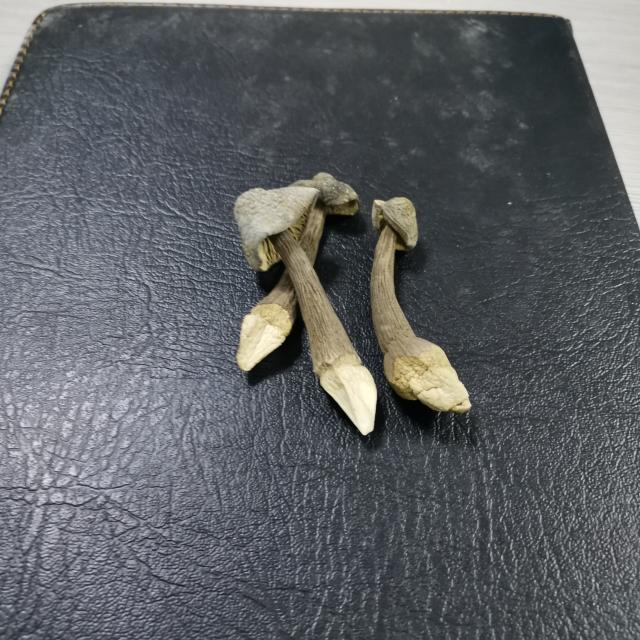Collybia albuminosa: (241, 185, 378, 435), (363, 196, 475, 410), (236, 171, 358, 365)
